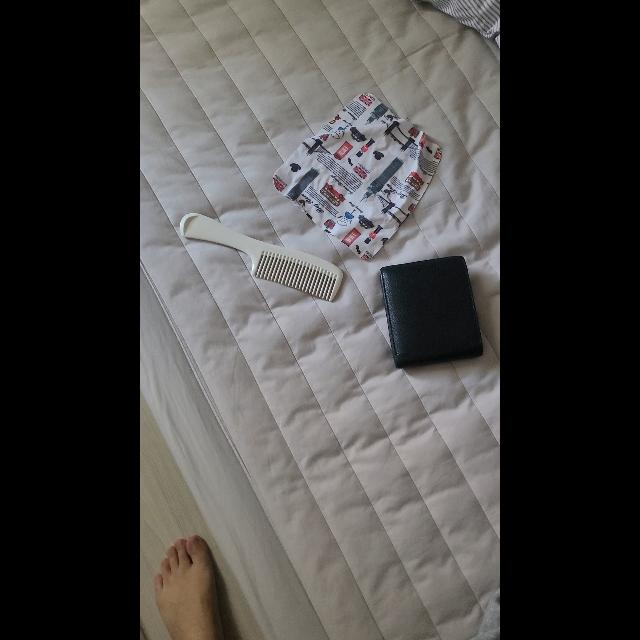COMB: (180, 212, 342, 302)
Glasses cleaning cloth: (272, 93, 442, 260)
WALLET: (381, 255, 484, 369)
